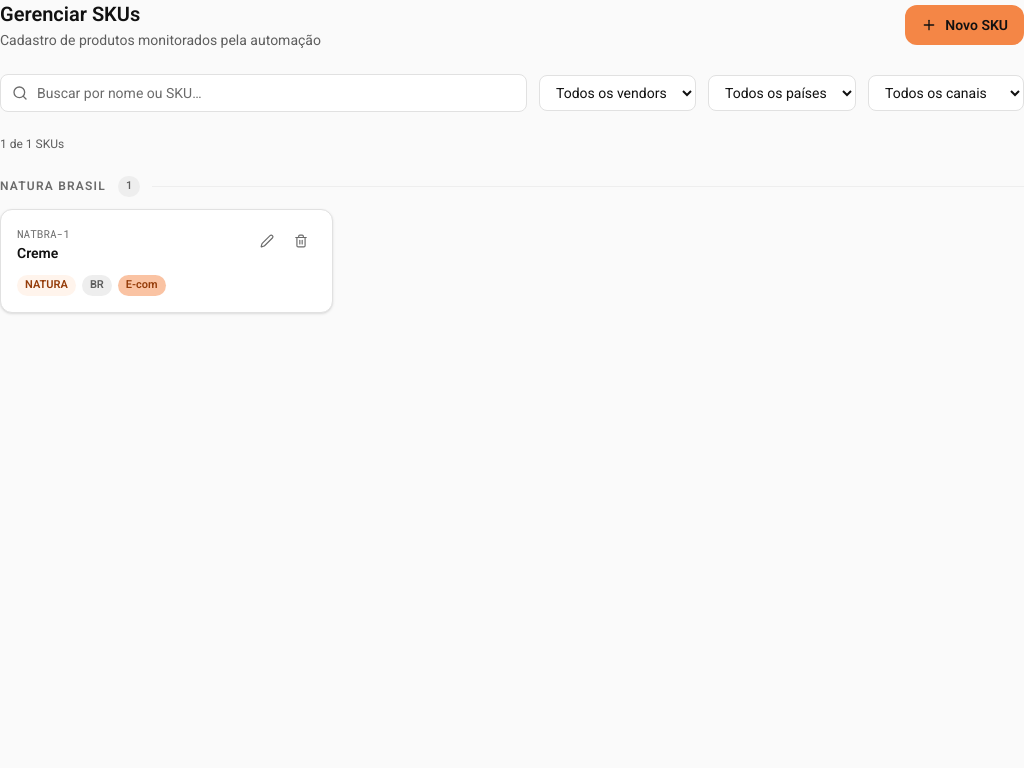
Test: SkusClient › exclui um SKU após confirmação
Click the button named "Excluir Creme". click: (301, 240)
box: [286,226,316,256]
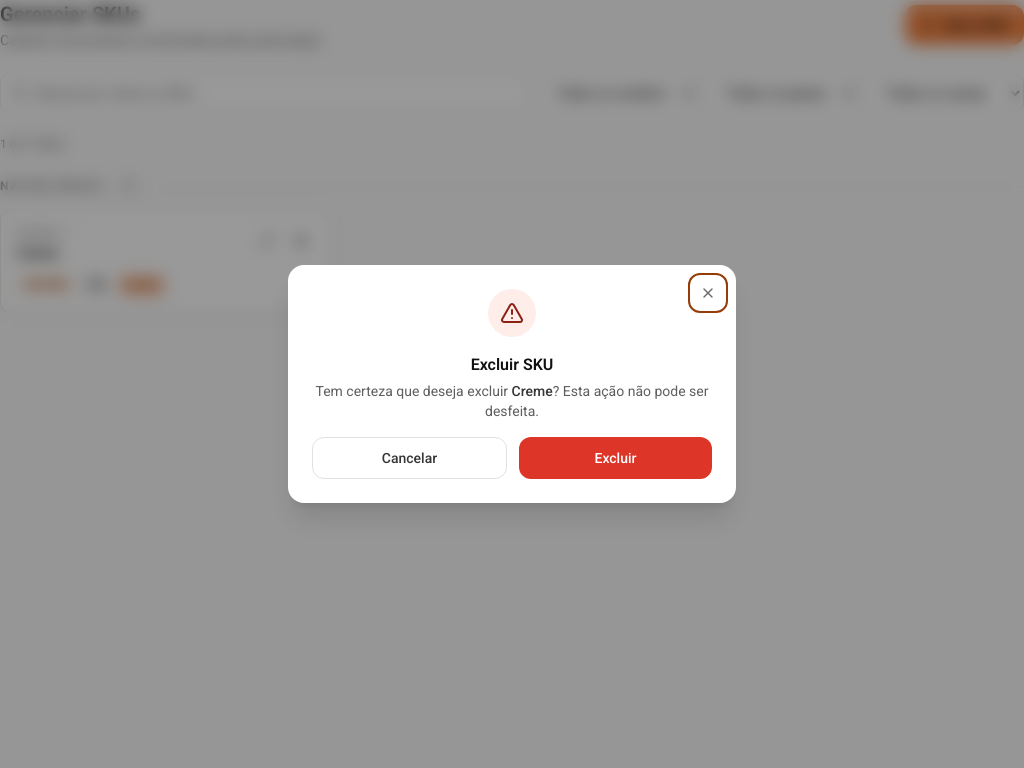
Click the button "Excluir". click: (616, 458)
box: [519,437,712,479]
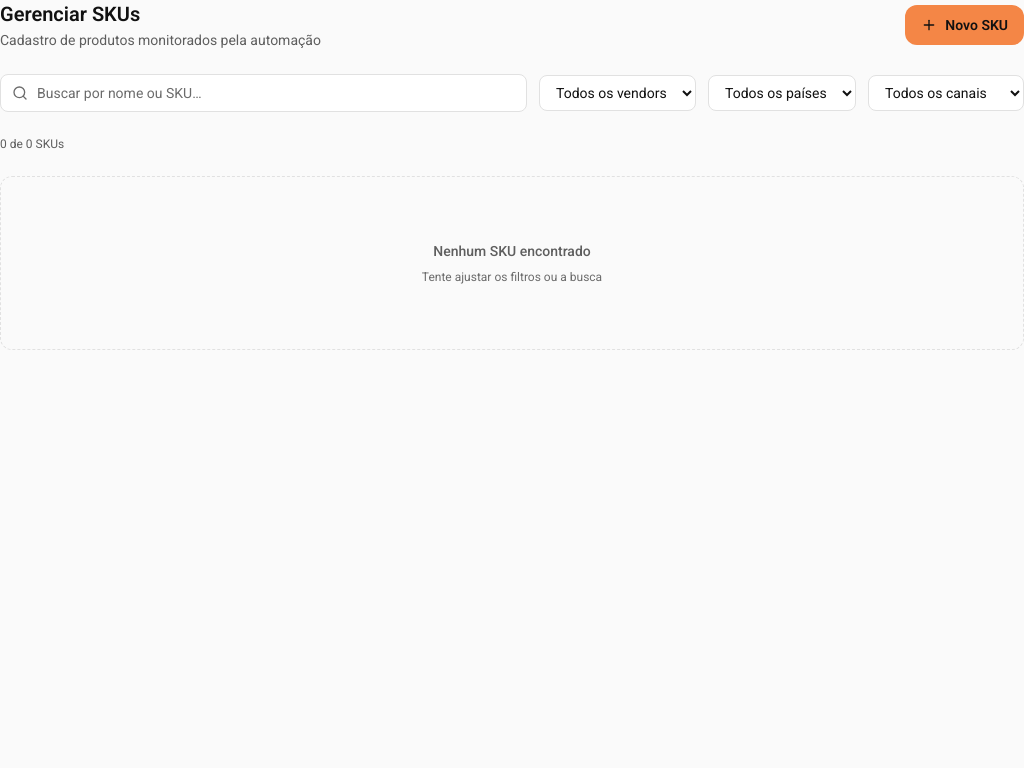
Result: the heading "Creme" is gone
